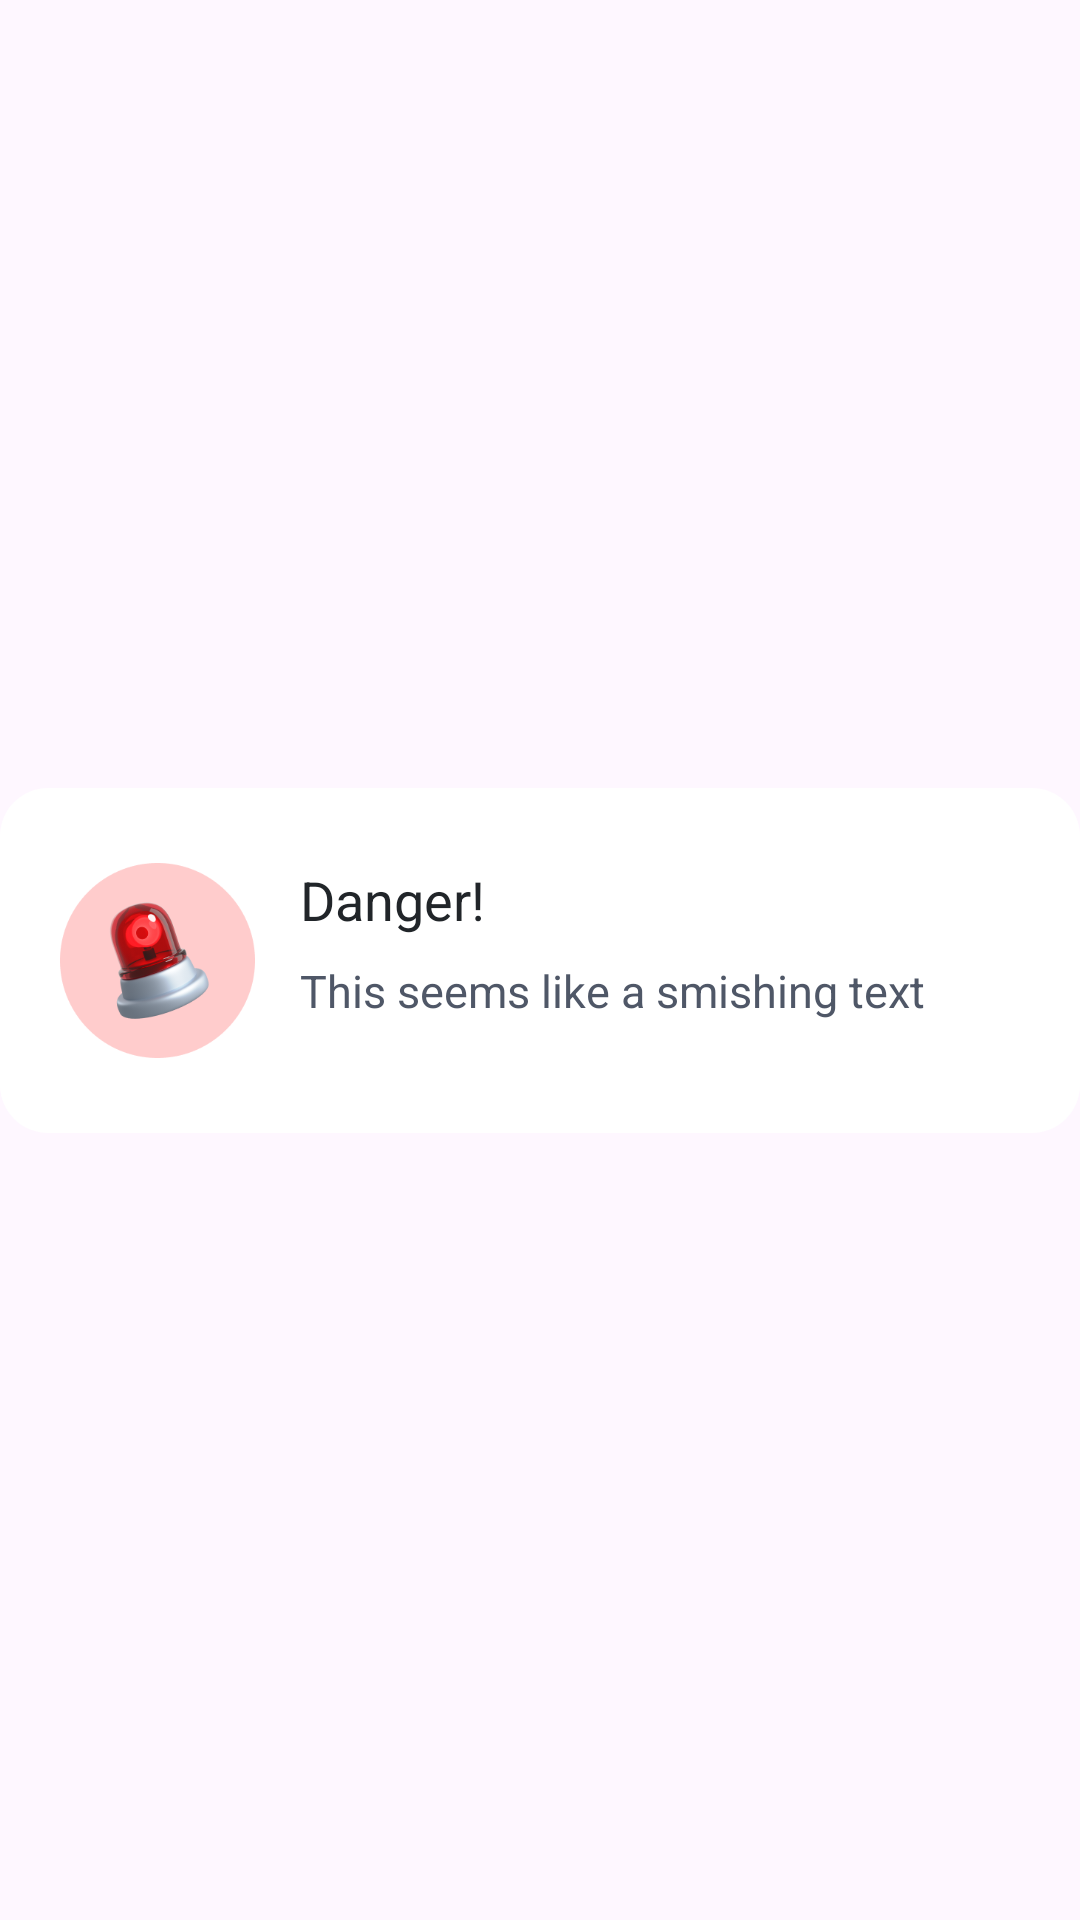

Icons on this 1080x1920 Android screen, each with the point to tap as [x,y]:
warning: [157,960]
